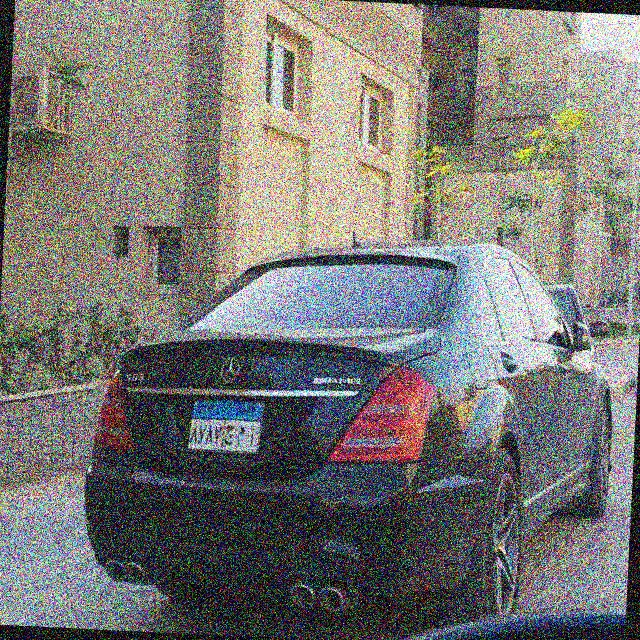License Plate: (185, 395, 267, 459)
